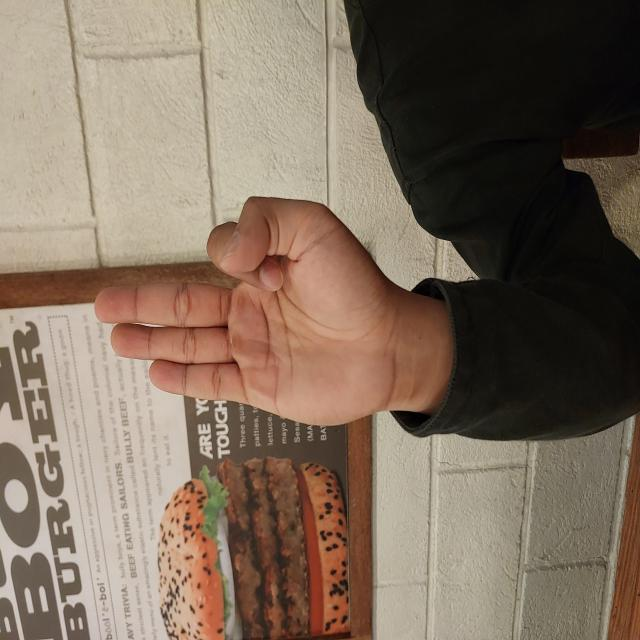F: (213, 93, 446, 402)
